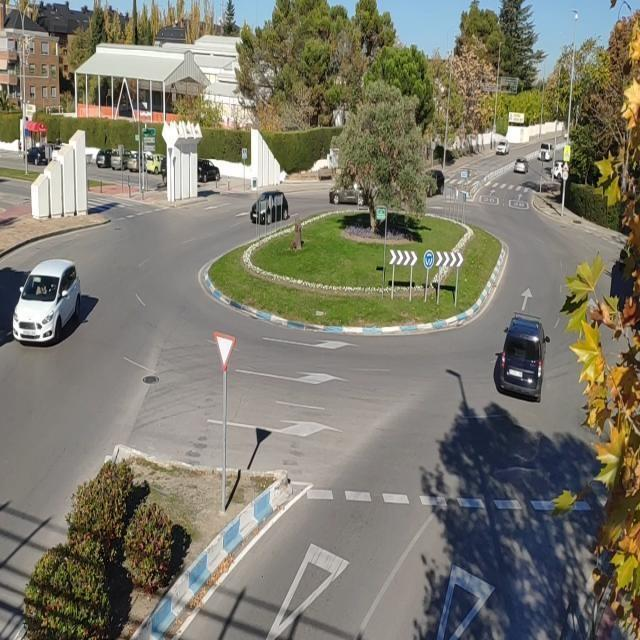Car: (0, 248, 94, 375), (483, 300, 563, 413), (237, 164, 295, 243), (337, 155, 383, 215)
